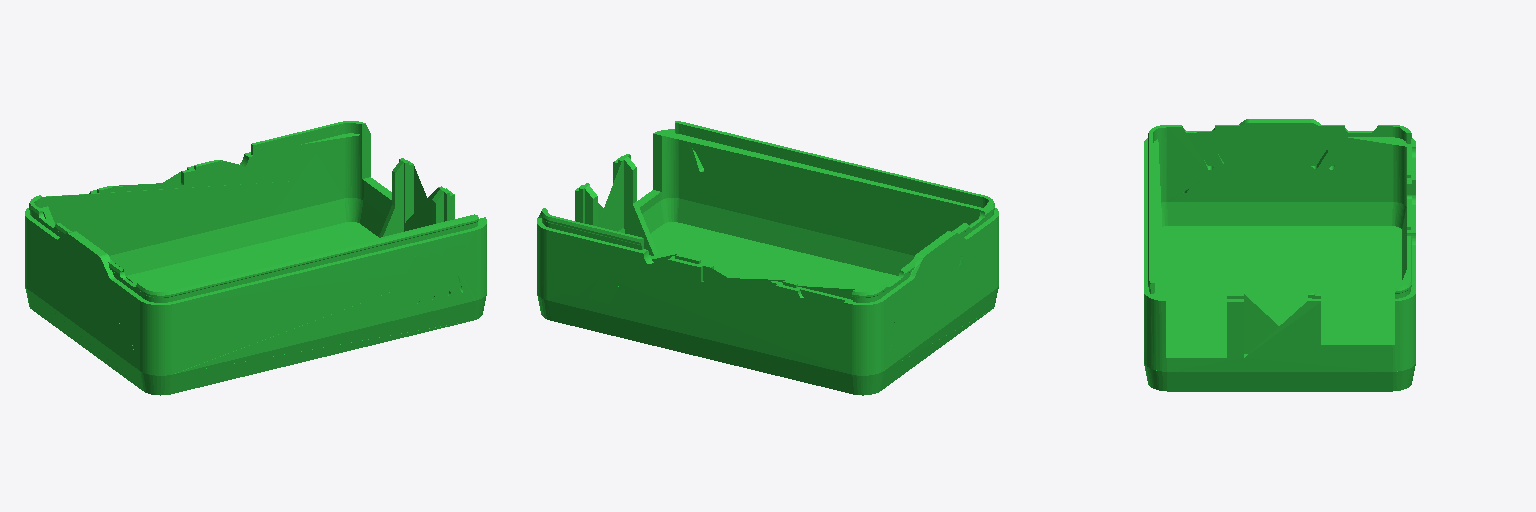
File: casingV3uup.obj
The picture shows the model from 3 angles: view 1: azimuth 30°, elevation 25°; view 2: azimuth 150°, elevation 25°; view 3: azimuth 270°, elevation 25°; orthographic projection.
Parts seen in each view (by area): view 1: Top; view 2: Top; view 3: Top.
Part boxes in pixels (left/top/right/bottom): Top: left=25, top=121, right=486, bottom=395; Top: left=537, top=121, right=998, bottom=395; Top: left=1144, top=119, right=1415, bottom=391.
Size of the model in its own units: 89.6 by 26.46 by 61.4.